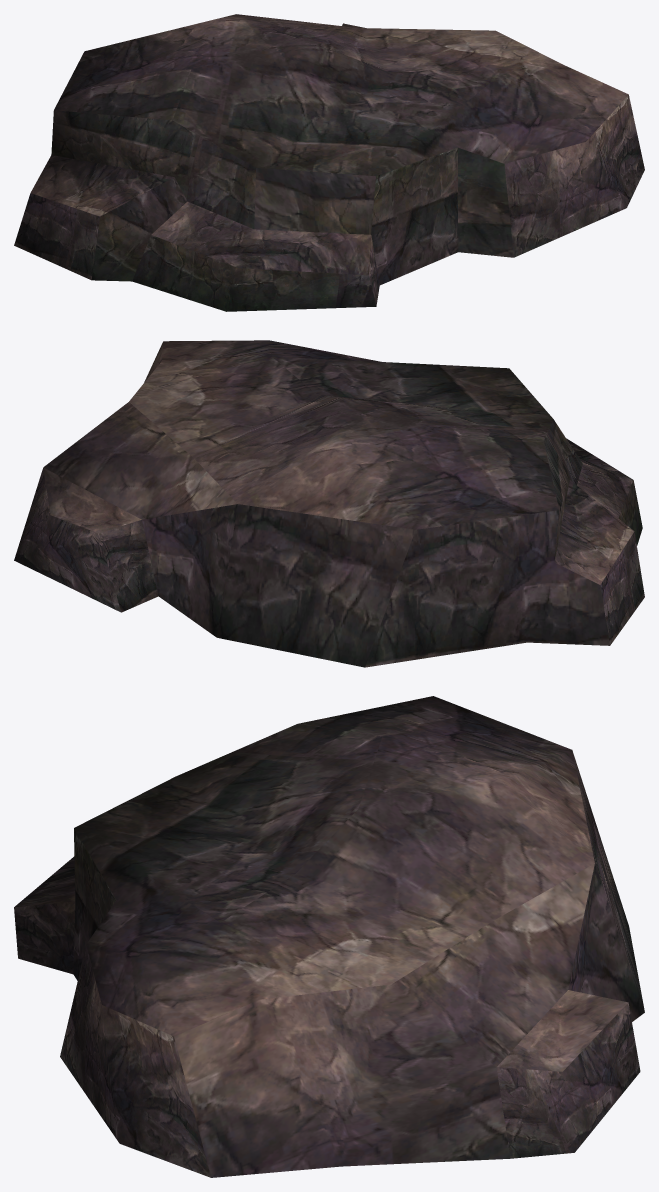
The model's file is S_Rock_Black072.FBX.
3 renders of one model, top to bottom at view 1: azimuth 30°, elevation 25°; view 2: azimuth 150°, elevation 25°; view 3: azimuth 270°, elevation 25°, orthographic. The views are drawn at different scales.
Visible parts, largest first — view 1: S_Rock_Black072; view 2: S_Rock_Black072; view 3: S_Rock_Black072.
Part boxes in pixels (x1,y1,x2,y2): S_Rock_Black072: (14,14,644,311); S_Rock_Black072: (14,340,644,667); S_Rock_Black072: (14,696,644,1177).
Bounding box in the file's own units: 316 × 240 × 82.25.
